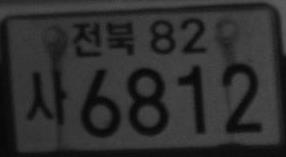1: (174, 64, 215, 134)
2: (221, 61, 263, 133), (180, 17, 208, 54)
6: (78, 67, 121, 138)
8: (125, 66, 170, 136), (149, 18, 175, 55)
사: (24, 69, 68, 126)
전북_H: (72, 19, 134, 59)
